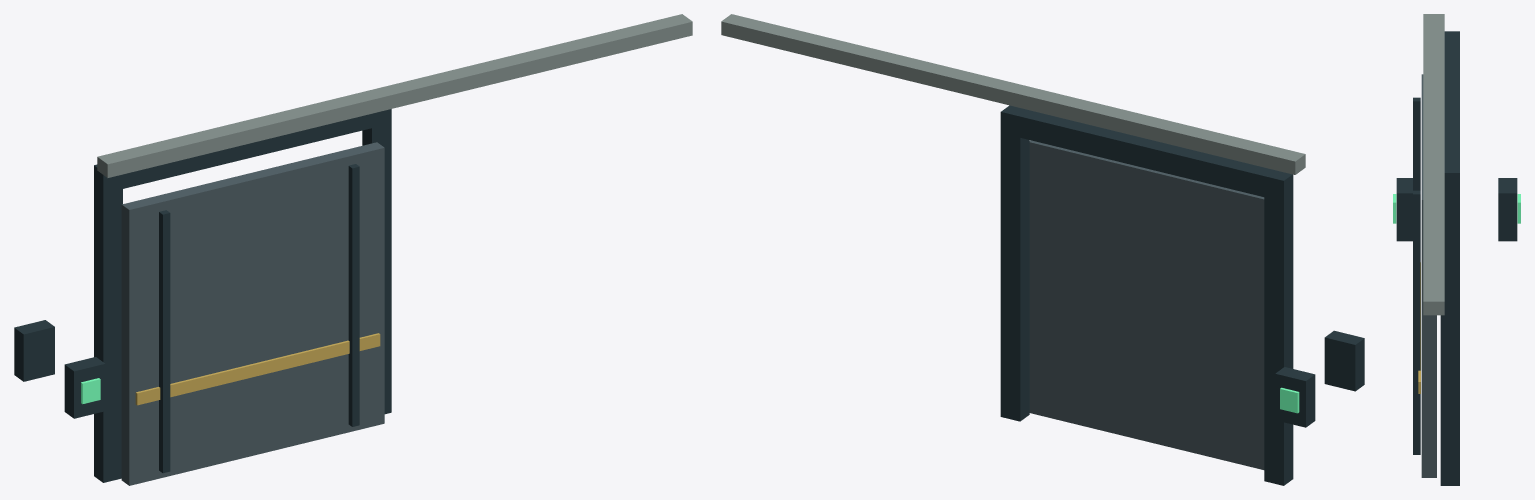
The model's file is FSA_ENV_Door_MilitarySlide.glb.
3 views of the same model, side by side, from view 1: azimuth 30°, elevation 25°; view 2: azimuth 150°, elevation 25°; view 3: azimuth 270°, elevation 25° (orthographic). The views are drawn at different scales.
Visible parts, largest first — view 1: Leaf, Track, Frame0, Header, LeafStripe, LeafReinforce2, LeafReinforce3, Frame1, SwitchBack, SwitchFront; view 2: Leaf, Track, Frame1, Header, Frame0, SwitchFront, SwitchBack; view 3: Track, Frame1, Leaf, Header, LeafReinforce3, SwitchBack, SwitchFront, LeafReinforce2, LeafStripe.
Boxes of the visible parts, <box> form: Leaf: <box>121,142,384,485</box>; Track: <box>97,14,692,177</box>; Frame0: <box>94,166,122,482</box>; Header: <box>94,109,391,193</box>; LeafStripe: <box>135,333,380,405</box>; LeafReinforce2: <box>159,210,170,473</box>; LeafReinforce3: <box>348,164,359,426</box>; Frame1: <box>362,109,391,414</box>; SwitchBack: <box>14,320,54,381</box>; SwitchFront: <box>64,357,105,418</box>; Leaf: <box>1029,140,1264,469</box>; Track: <box>721,14,1305,174</box>; Frame1: <box>1000,112,1029,421</box>; Header: <box>1001,105,1293,201</box>; Frame0: <box>1264,175,1293,485</box>; SwitchFront: <box>1324,330,1364,391</box>; SwitchBack: <box>1275,367,1315,427</box>; Track: <box>1423,14,1444,315</box>; Frame1: <box>1440,173,1459,485</box>; Leaf: <box>1421,74,1436,477</box>; Header: <box>1444,31,1459,194</box>; LeafReinforce3: <box>1413,190,1420,454</box>; SwitchBack: <box>1498,178,1517,241</box>; SwitchFront: <box>1396,178,1412,241</box>; LeafReinforce2: <box>1413,97,1420,190</box>; LeafStripe: <box>1418,262,1420,393</box>.
Bounding box in the file's own units: 7.67 × 3.78 × 1.34.
